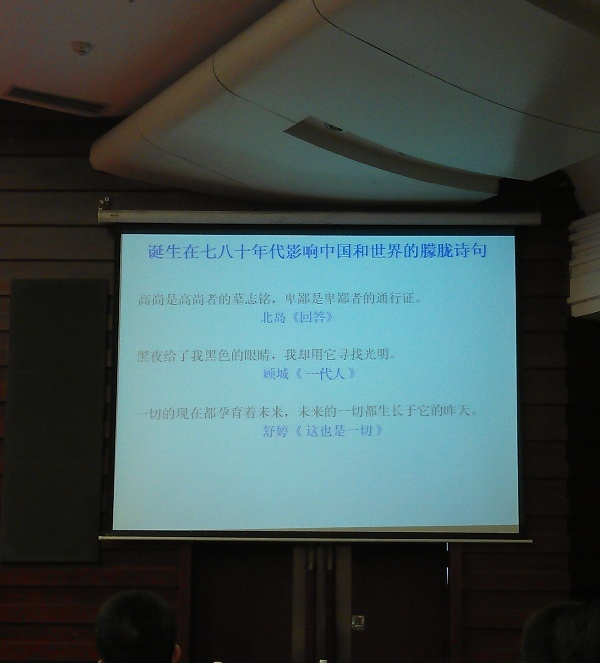text: (145, 403, 160, 421), (161, 403, 176, 421), (177, 403, 192, 421), (193, 403, 208, 421), (209, 403, 224, 421), (225, 403, 240, 421), (241, 403, 256, 421), (257, 403, 272, 421), (273, 403, 288, 421), (289, 403, 304, 421), (305, 403, 320, 421), (321, 403, 336, 421), (337, 403, 352, 421), (353, 403, 368, 421), (369, 403, 384, 421), (385, 403, 400, 421), (401, 403, 416, 421), (417, 403, 432, 421), (433, 403, 448, 421), (449, 403, 464, 421), (161, 243, 176, 260), (177, 243, 192, 260), (193, 243, 208, 260), (209, 243, 224, 260), (225, 243, 240, 260), (241, 243, 256, 260), (257, 243, 272, 260), (273, 243, 288, 260), (289, 243, 304, 260), (305, 243, 320, 260), (321, 243, 336, 260), (337, 243, 352, 260), (353, 243, 368, 260), (369, 243, 384, 260), (385, 243, 400, 260), (401, 243, 416, 260), (417, 243, 432, 260), (433, 243, 448, 260), (449, 243, 464, 260), (465, 243, 480, 260), (145, 347, 160, 364), (161, 347, 176, 364), (177, 347, 192, 364), (193, 347, 208, 364), (209, 347, 224, 364), (225, 347, 240, 364), (241, 347, 256, 364), (257, 347, 272, 364), (273, 347, 288, 364), (289, 347, 304, 364), (305, 347, 320, 364), (321, 347, 336, 364), (337, 347, 352, 364), (353, 347, 368, 364), (369, 347, 384, 364), (273, 423, 288, 440), (289, 423, 304, 440), (305, 423, 320, 440), (321, 423, 336, 440), (337, 423, 352, 440), (353, 423, 368, 440), (369, 423, 384, 440), (465, 403, 479, 421), (145, 291, 160, 307), (161, 291, 176, 307), (177, 291, 192, 307), (193, 291, 208, 307), (209, 291, 224, 307), (225, 291, 240, 307), (241, 291, 256, 307), (257, 291, 272, 307), (273, 291, 288, 307), (289, 291, 304, 307), (305, 291, 320, 307), (321, 291, 336, 307), (337, 291, 352, 307), (353, 291, 368, 307), (369, 291, 384, 307), (385, 291, 400, 307), (401, 291, 416, 307), (273, 366, 288, 382), (289, 366, 304, 382), (305, 366, 320, 382), (321, 366, 336, 382), (337, 366, 352, 382), (148, 243, 160, 260), (133, 403, 144, 421), (273, 312, 288, 325), (289, 312, 304, 325), (305, 312, 320, 325), (261, 366, 272, 382), (385, 347, 395, 364), (262, 423, 272, 440), (321, 312, 334, 325), (260, 312, 272, 325), (136, 347, 144, 364), (481, 243, 488, 260), (138, 291, 144, 307), (417, 291, 421, 307), (353, 366, 357, 382)
